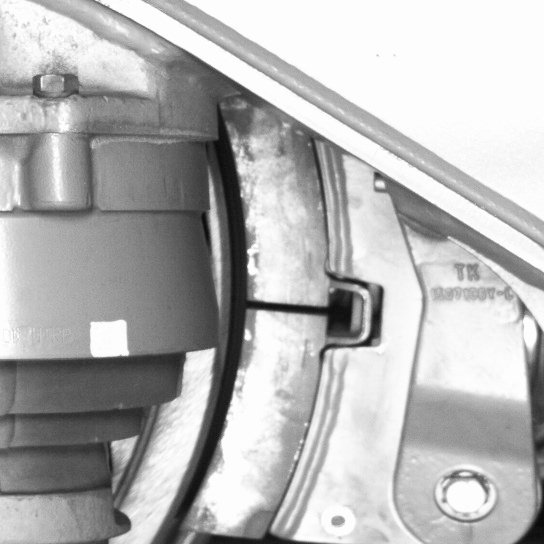KnifeSwitch: (149, 137, 349, 540)
